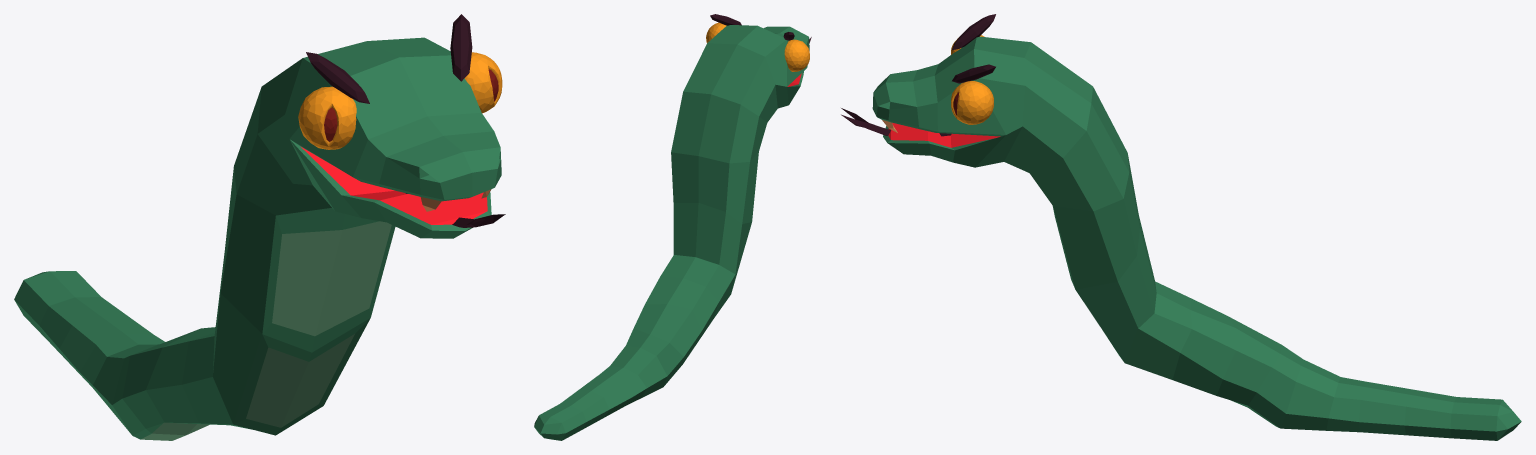
The model's file is Snake_Angry_000012.obj.
3 views of the same model, side by side, from view 1: azimuth 30°, elevation 25°; view 2: azimuth 150°, elevation 25°; view 3: azimuth 270°, elevation 25° (orthographic). The views are drawn at different scales.
Parts seen in each view (by area): view 1: Snake_Cylinder; view 2: Snake_Cylinder; view 3: Snake_Cylinder.
Boxes of the visible parts, box(x1,y1,x2,y2) form: Snake_Cylinder: box(14, 14, 505, 440); Snake_Cylinder: box(534, 14, 811, 440); Snake_Cylinder: box(841, 14, 1521, 440).
Bounding box in the file's own units: 1.05 × 2.85 × 4.55.
